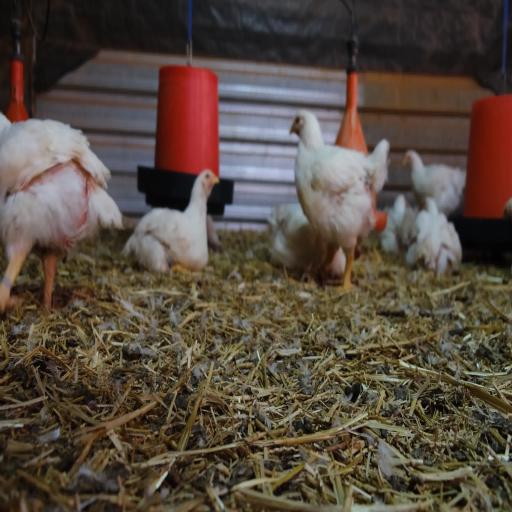healthy: (290, 103, 307, 146), (201, 163, 221, 197)
